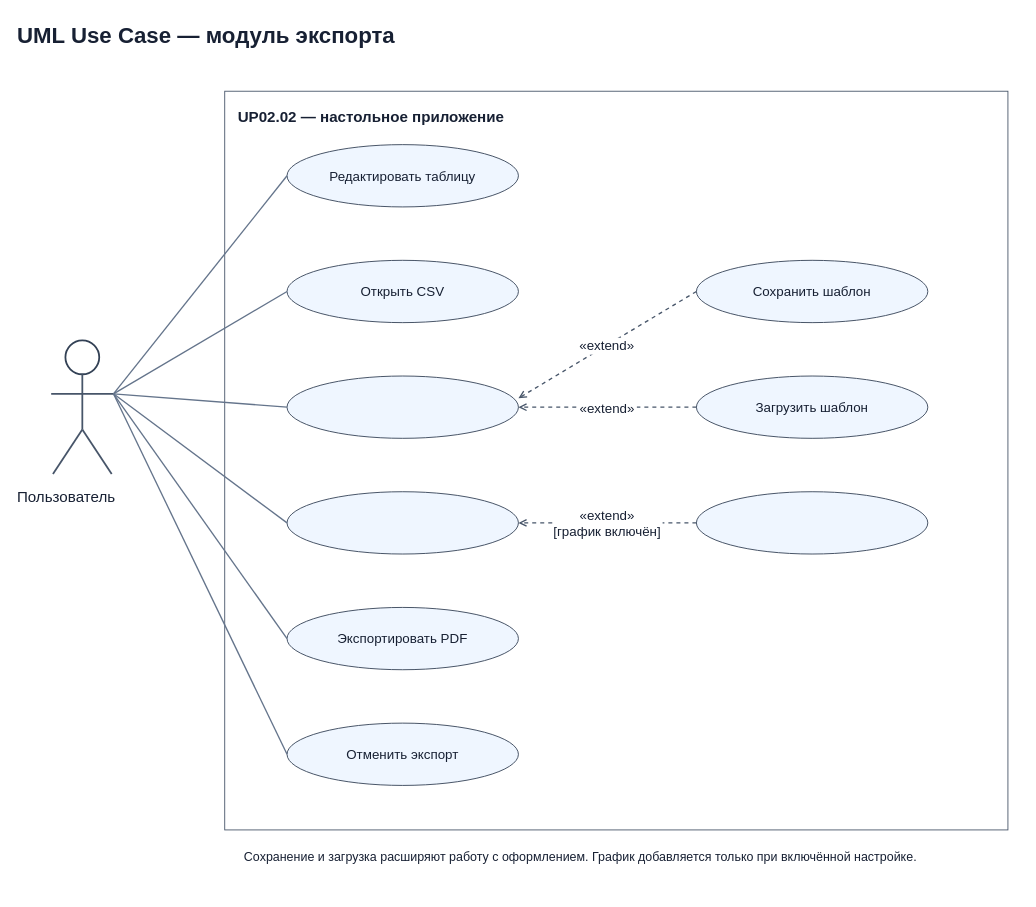
The diagram is 1036 pixels wide and 907 high, and some of its shapes have lost their labels. Each missing label, with the centre of its shape:
"Добавить график в XLSX" belongs at (812,522).
"Настроить оформление" belongs at (402,406).
"Экспортировать XLSX" belongs at (402,522).
